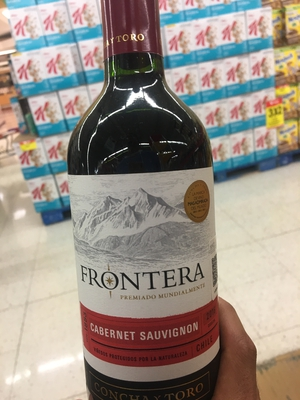frontera cabernet sauvignon: (63, 8, 229, 380)
